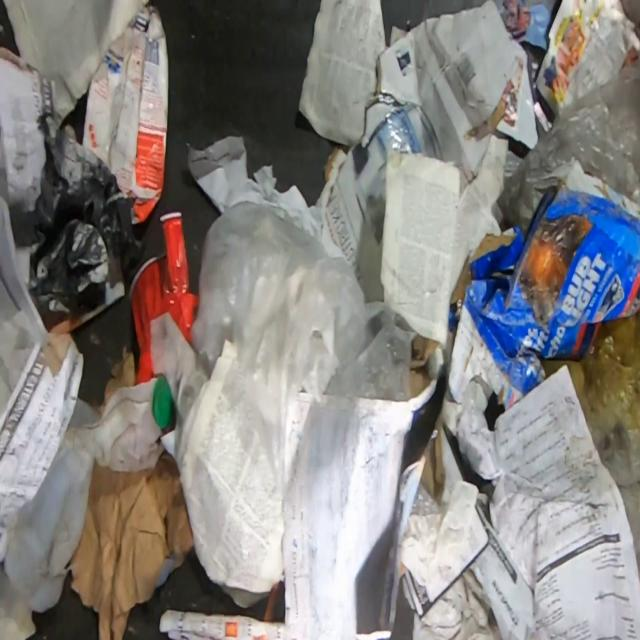cardboard: (322, 4, 523, 308), (446, 158, 640, 411), (79, 3, 169, 227)
rigid_plastic: (129, 211, 198, 386)
soft_plastic: (188, 203, 409, 492), (29, 110, 146, 321), (0, 200, 17, 277), (409, 481, 443, 515)
